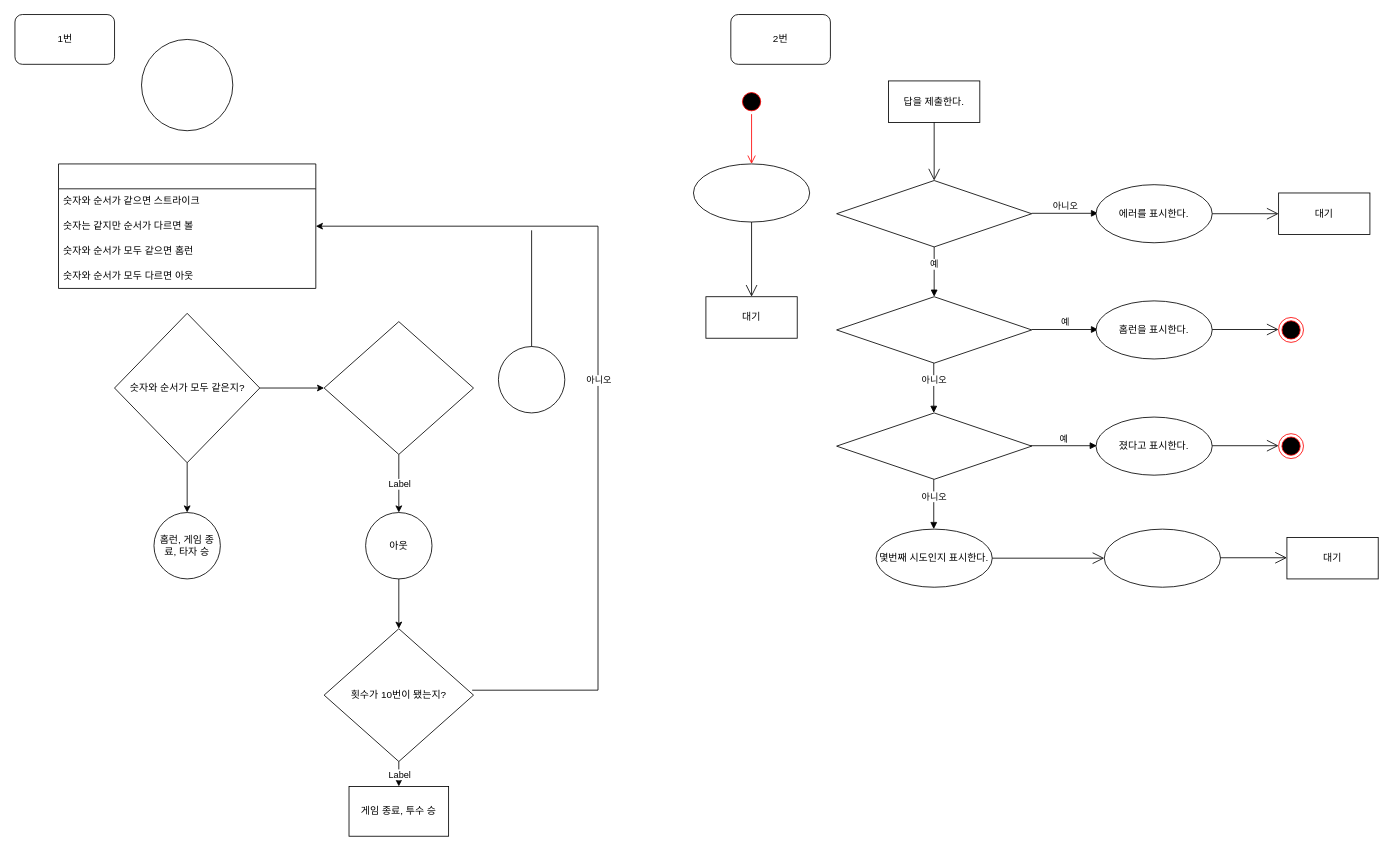
The diagram is 1393 pixels wide and 851 high, and some of its shapes have lost their labels. Each missing label, with the box of its shape:
10번째 시도인지 체크한다.: (836, 412, 1032, 479)
답이 형식에 맞는지 체크한다.: (836, 180, 1032, 247)
숫자 4개를 뽑는다.: (693, 163, 810, 222)
숫자와 순서가 모두 다른지?: (323, 321, 474, 454)
시도 카운트를 1 늘린다.: (1103, 528, 1221, 587)
타자는 투수가 제시한 숫자와 순서를 맞춘다.(10번 기회): (58, 163, 316, 288)
투수가 1~10 중 4개의 숫자를 나열한다.: (141, 39, 233, 131)
홈런인지 체크한다.: (836, 296, 1032, 363)
